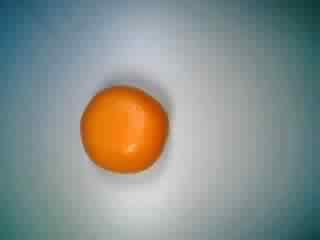orange: (74, 80, 175, 177)
